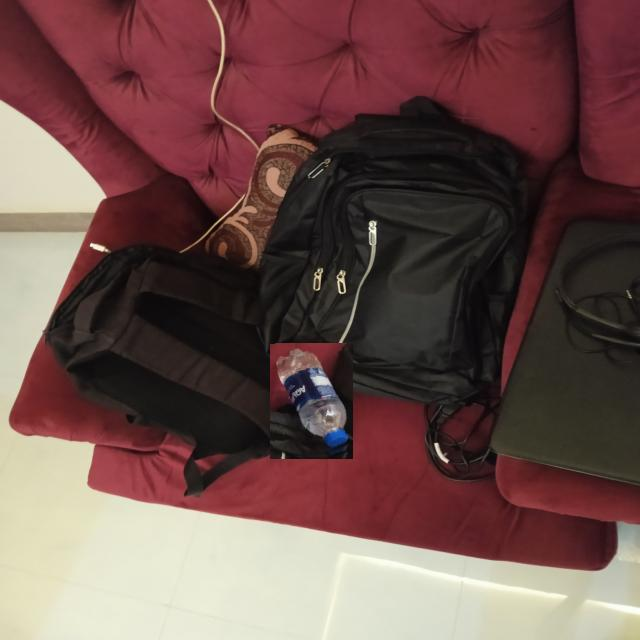Plastic: (269, 343, 353, 459)
